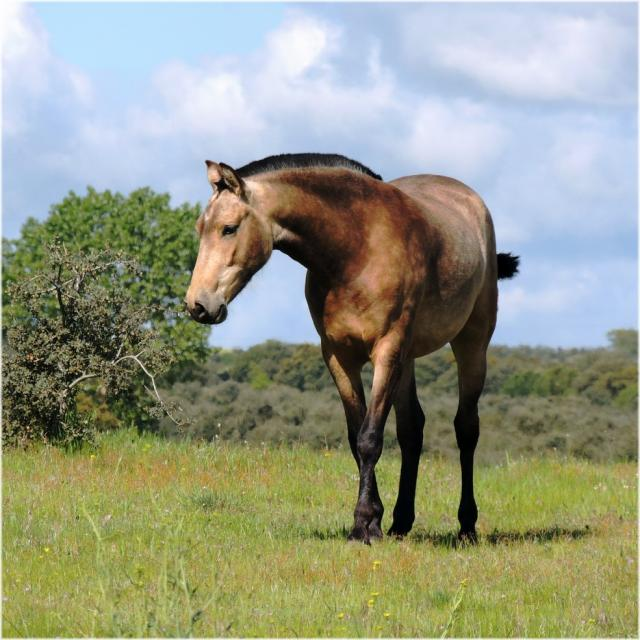Horse: (183, 152, 519, 540)
